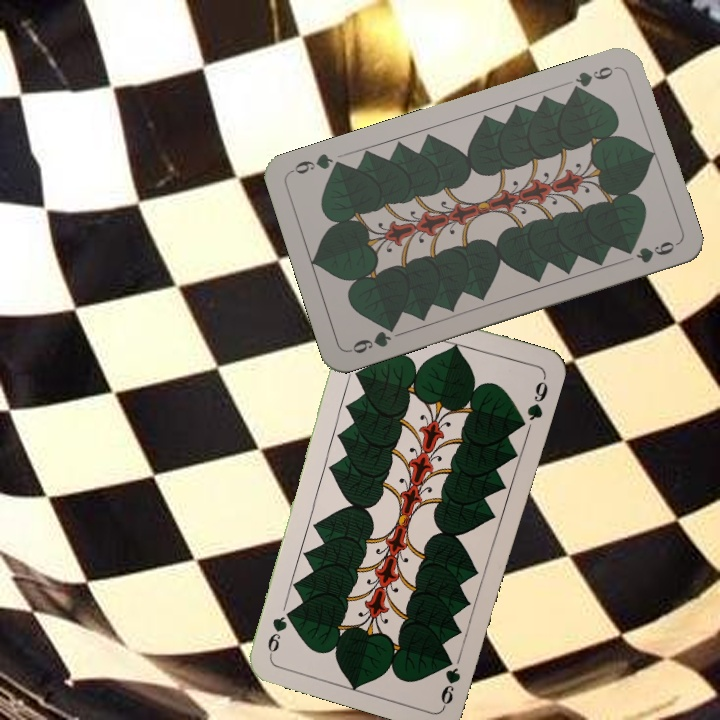G9: (345, 320, 399, 356), (567, 62, 621, 96), (436, 652, 463, 708)
